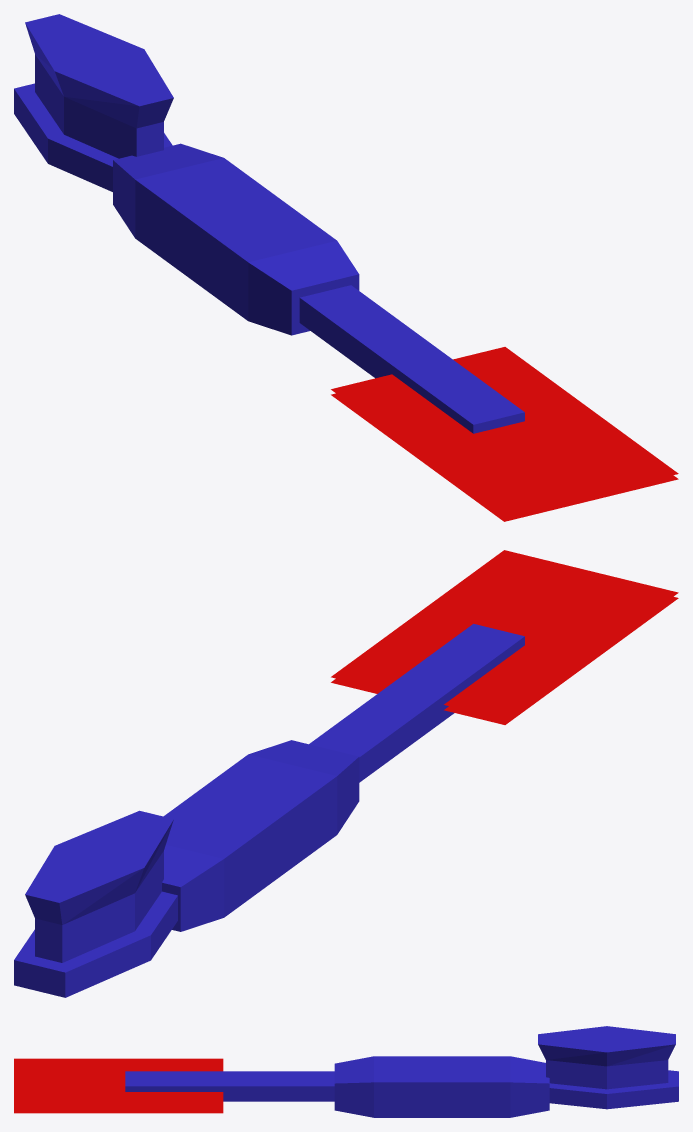
The model's file is SM_sharpening1.fbx.
3 renders of one model, top to bottom at view 1: azimuth 30°, elevation 25°; view 2: azimuth 150°, elevation 25°; view 3: azimuth 270°, elevation 25°, orthographic. The views are drawn at different scales.
Visible parts, largest first — view 1: sharpening1; view 2: sharpening1; view 3: sharpening1.
Boxes of the visible parts, <box> form: sharpening1: <box>14,14,678,521</box>; sharpening1: <box>14,550,678,997</box>; sharpening1: <box>14,1026,678,1117</box>.
Bounding box in the file's own units: 3.74 × 2.23 × 20.48.
